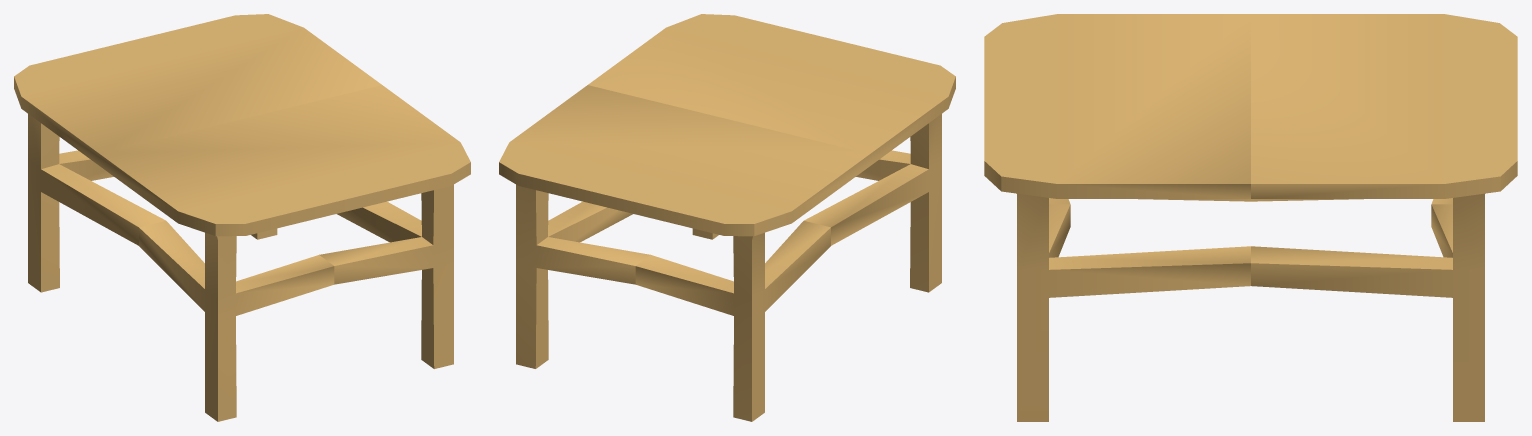
Rendered from TableSmall.fbx.
3 renders of one model, left to right at view 1: azimuth 30°, elevation 25°; view 2: azimuth 150°, elevation 25°; view 3: azimuth 270°, elevation 25°, orthographic. The views are drawn at different scales.
Visible parts, largest first — view 1: Table.001; view 2: Table.001; view 3: Table.001.
Boxes of the visible parts, x1,y1,x2,y2 form: Table.001: [14, 14, 470, 421]; Table.001: [499, 14, 955, 421]; Table.001: [984, 14, 1517, 421].
Size of the model in its own units: 270 by 187 by 358.
